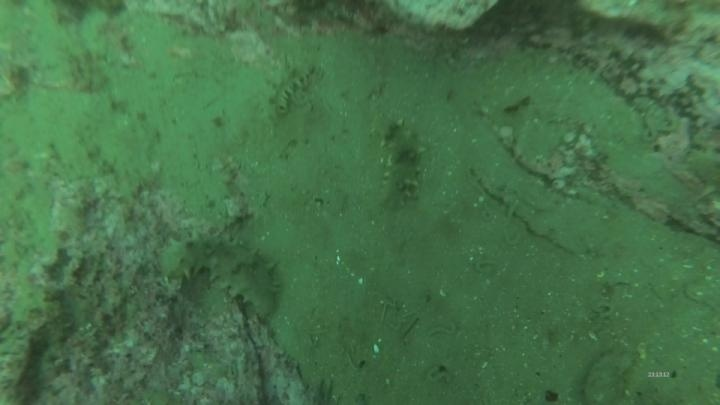holothurian: (157, 230, 284, 323), (369, 109, 427, 213), (260, 53, 319, 123)
